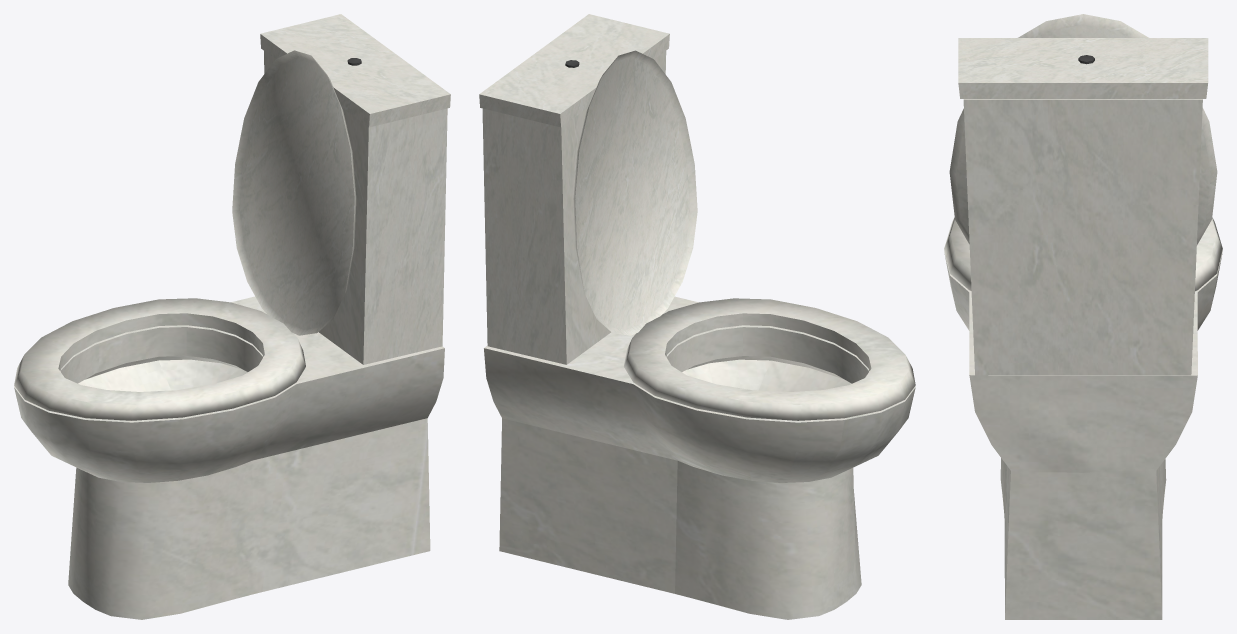
The model's file is Toilet.FBX.
3 renders of one model, left to right at view 1: azimuth 30°, elevation 25°; view 2: azimuth 150°, elevation 25°; view 3: azimuth 270°, elevation 25°, orthographic. The views are drawn at different scales.
Parts seen in each view (by area): view 1: Toilet-flush; view 2: Toilet-flush; view 3: Toilet-flush.
Part boxes in pixels (box(x1,y1,x2,y2)): Toilet-flush: box(14, 14, 450, 619); Toilet-flush: box(479, 14, 915, 619); Toilet-flush: box(944, 14, 1222, 619).
Bounding box in the file's own units: 39.67 × 49.83 × 22.53.
2 materials, 2 textured.
